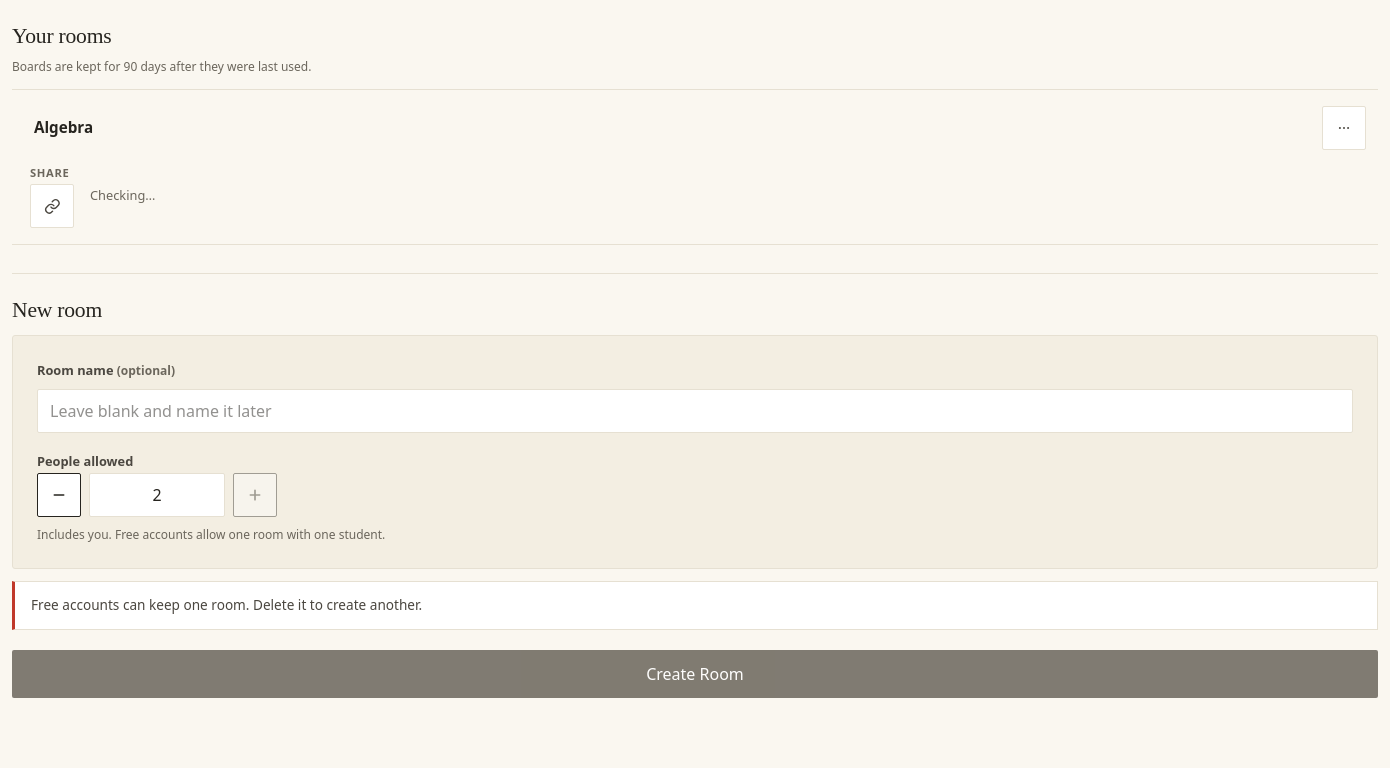
Test: TeacherRoomsPanel rename and delete › keeps the rooms visible and reports the list error when the refresh after a rename fails
Expected: the link with test id "whiteboard-room-list-item-room-alpha" is shown, [34, 117, 93, 137]
Click the button with test id "whiteboard-room-menu-room-alpha" at x=1344, y=128, box [1322, 106, 1366, 150]
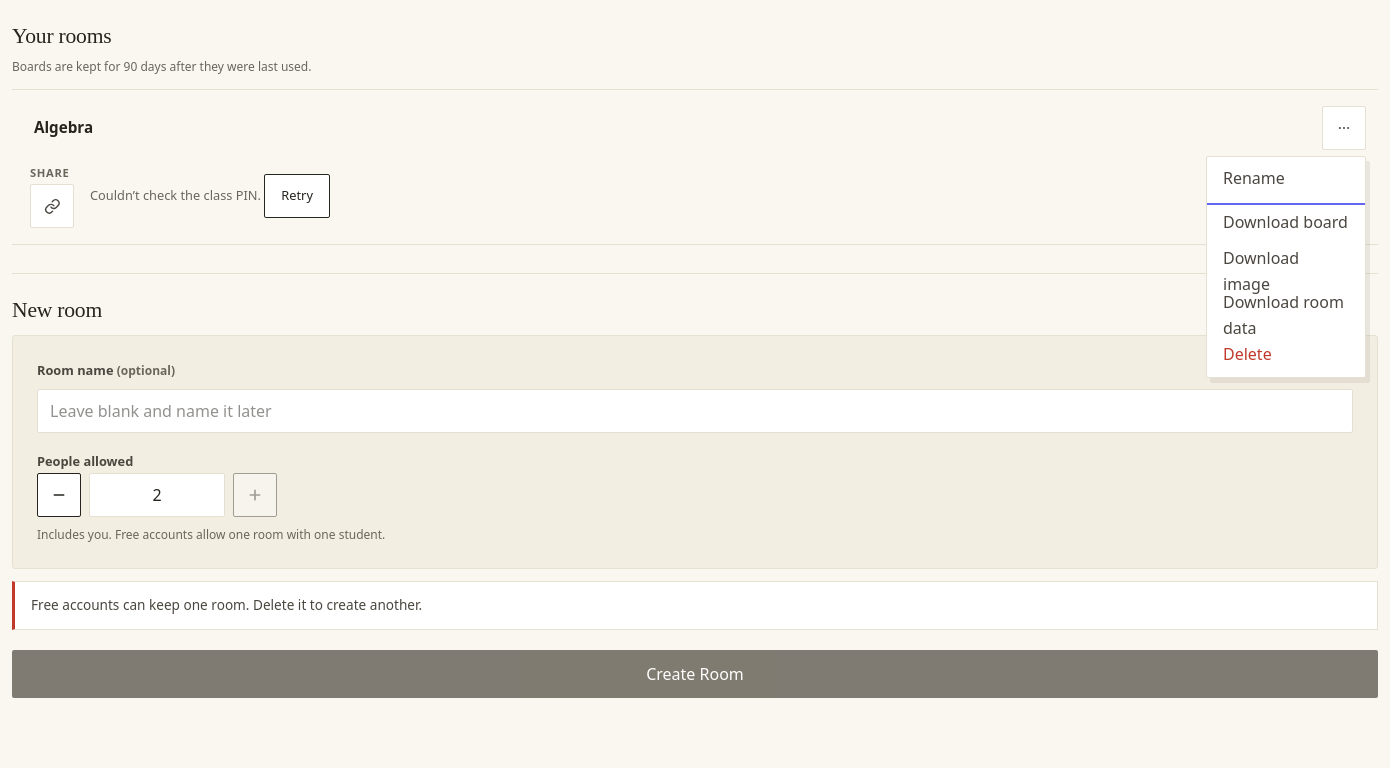
Click the menu item with test id "whiteboard-room-rename-room-alpha" at x=1286, y=179, box [1207, 157, 1365, 201]
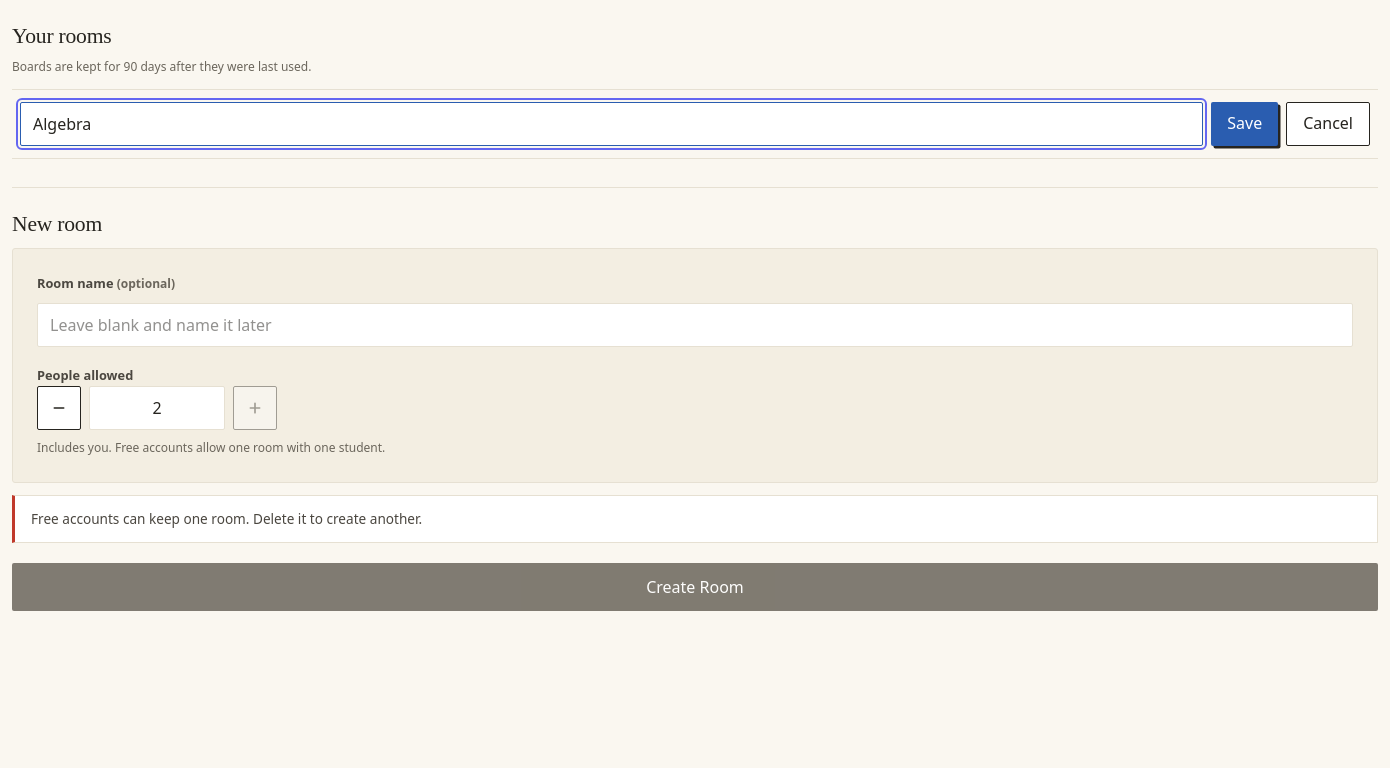
Replace the text in the field with test id "whiteboard-room-name-input-room-alpha" with "Geometry" at x=612, y=124, box [20, 102, 1203, 146]
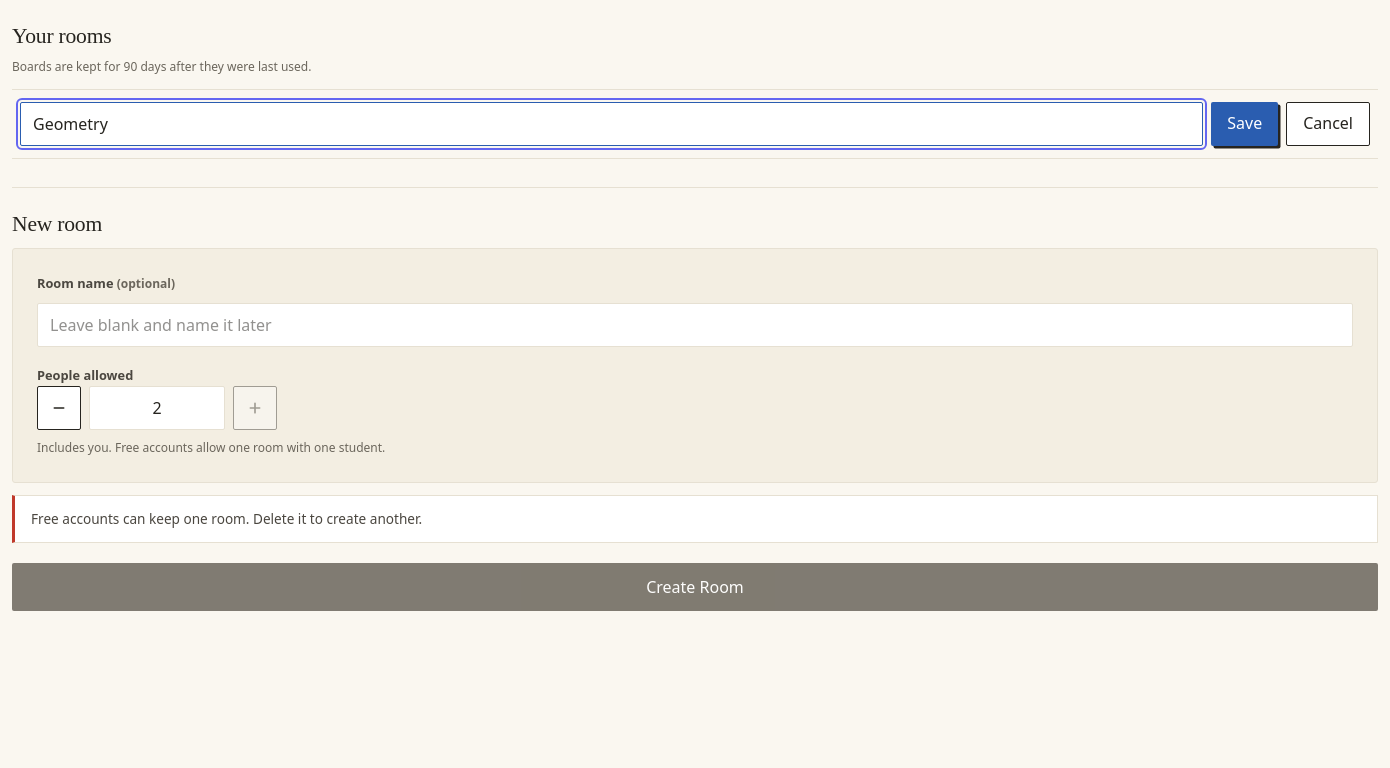
Click the button with test id "whiteboard-room-name-save-room-alpha" at x=1245, y=124, box [1211, 102, 1278, 146]
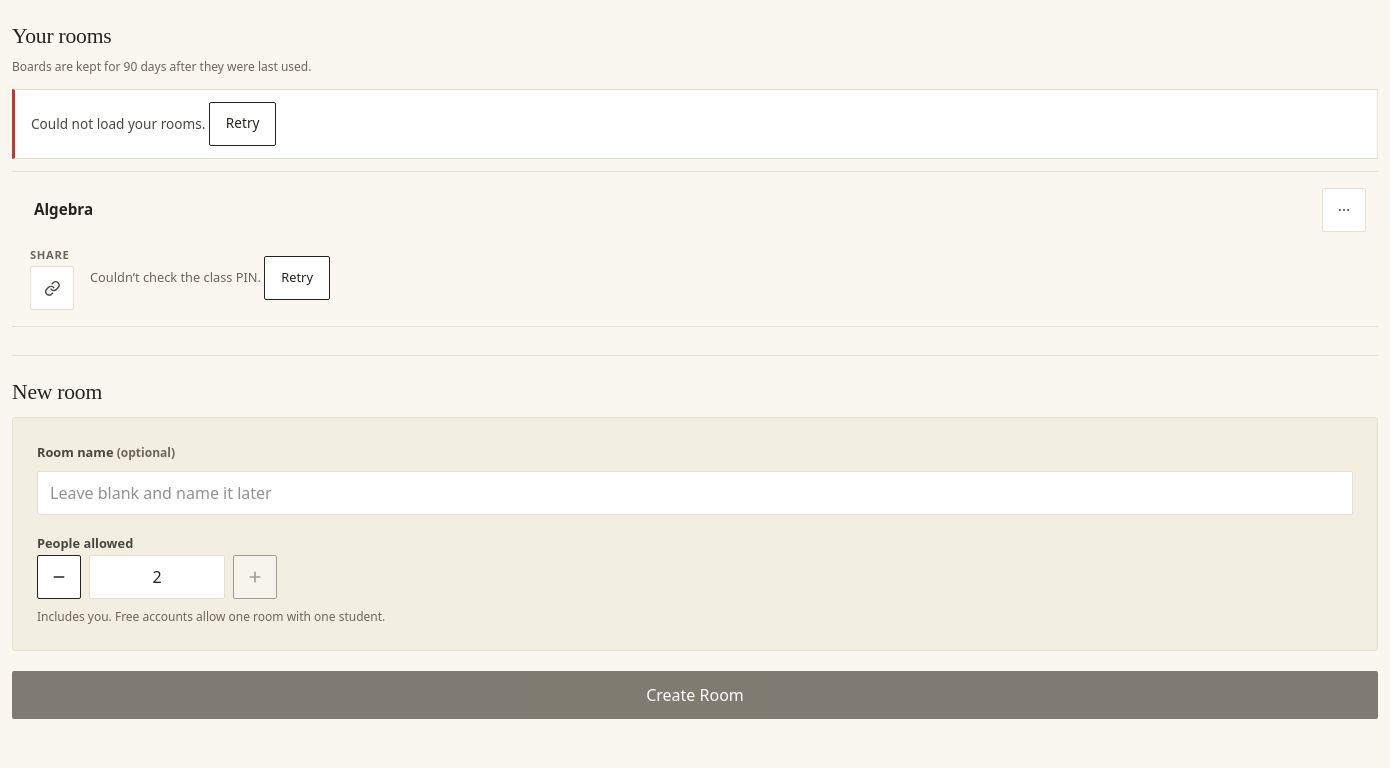
Now the message "Could not load your rooms. Retry" is shown, box [12, 89, 1378, 159]
Now the link with test id "whiteboard-room-list-item-room-alpha" is shown, box [34, 199, 93, 219]
